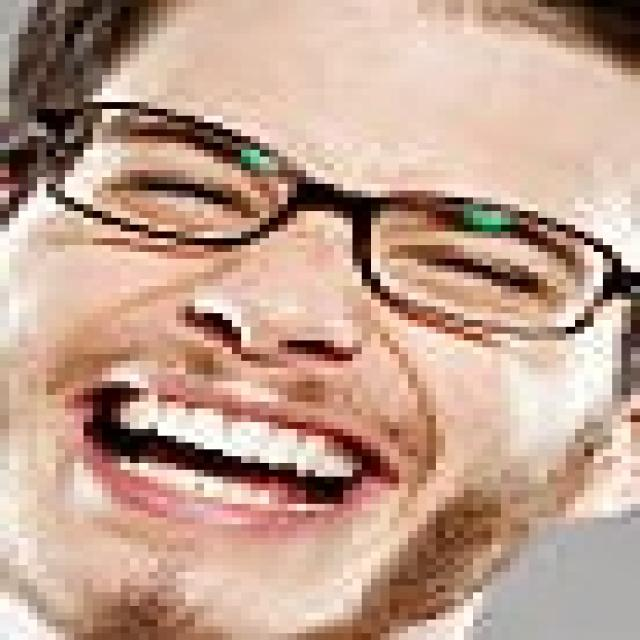Anxiety: (2, 0, 631, 633)
